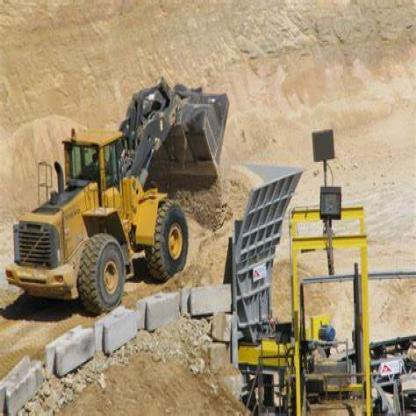bull_dozer/loader/grader: (7, 64, 228, 314)
